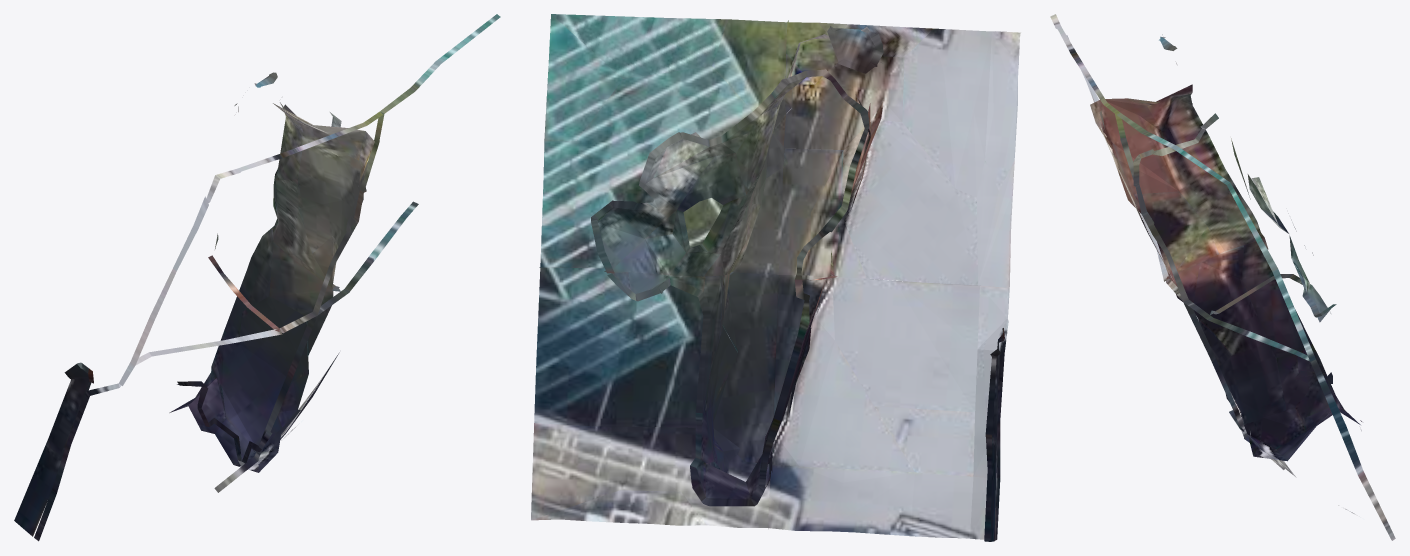
File: AJVsH2yz5Wj6gJIzLGNaRJ1ZPNLGg_dFI9duqHZQ-8a_jpKmi67QlJ4jCyP6u8vX3xO0KhTbVvG3kOOETNFlQeKo15MollaSViWMy2_5ee8MYCpYmWVfNo2lr5hopz3354Y5-0M_5W7W9aeAw2rYNVlMgRA9.glb
3 views of the same model, side by side, from view 1: azimuth 30°, elevation 25°; view 2: azimuth 150°, elevation 25°; view 3: azimuth 270°, elevation 25° (orthographic). The views are drawn at different scales.
Size of the model in its own units: 39.84 by 38.28 by 28.32.
1 material, 1 textured.
